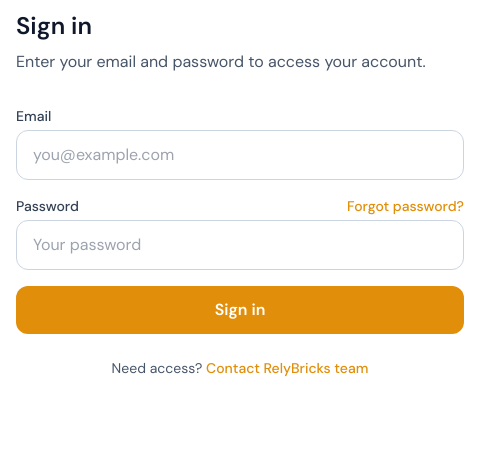
Test: LoginPage › asks for an email before sending a reset link
Click the button "Forgot password?".
click(405, 206)  # box [347, 196, 464, 216]
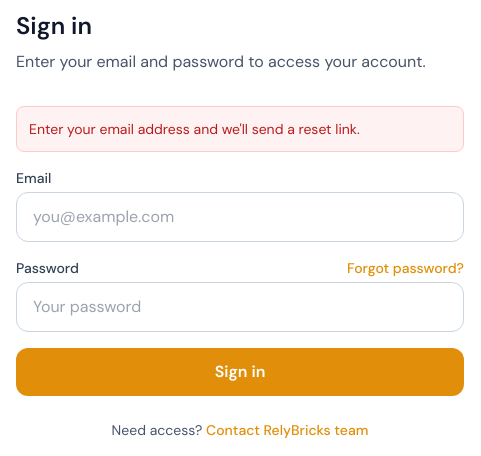
Expected: the text "Enter your email address and we'll send a reset link." is shown, [16, 106, 464, 152]
